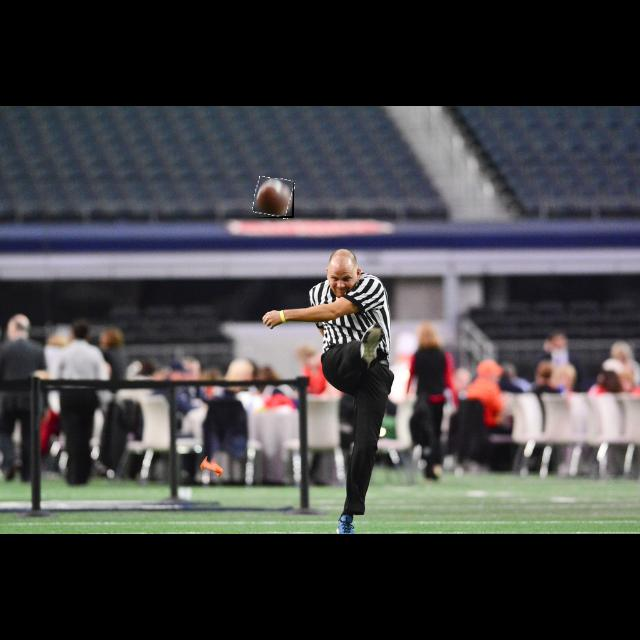Football: (254, 178, 294, 218)
